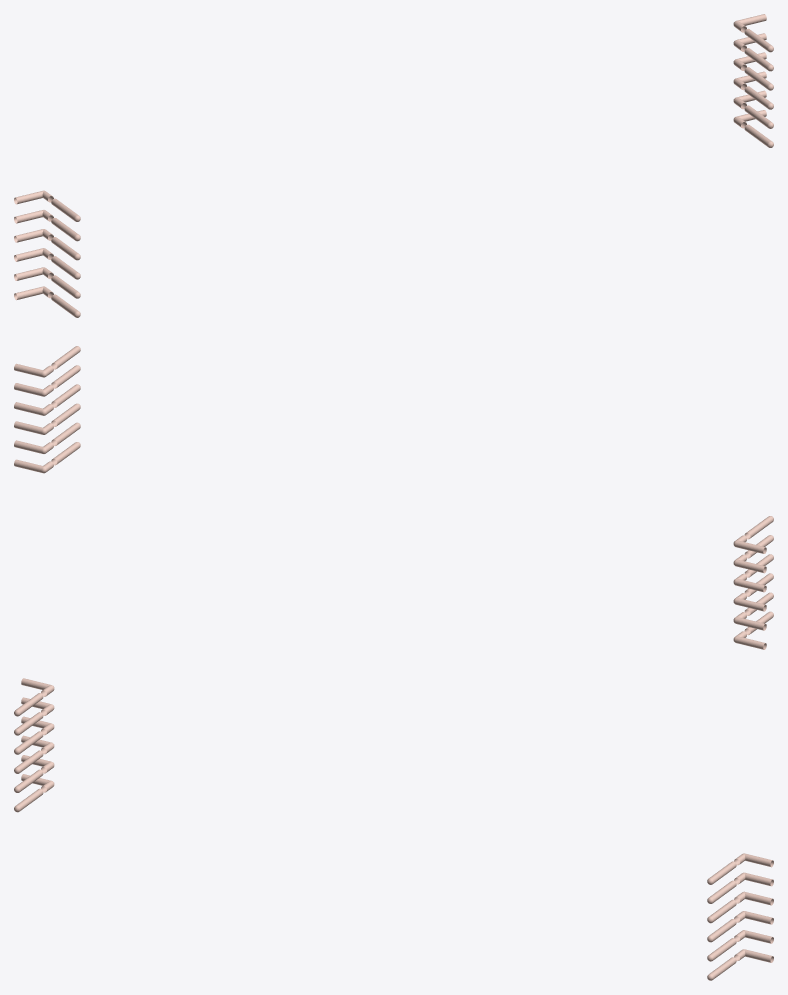
The model's file is Blancer_SBR_Assembly_7_vis_5.dae.
3 renders of one model, top to bottom at view 1: azimuth 30°, elevation 25°; view 2: azimuth 150°, elevation 25°; view 3: azimuth 330°, elevation 25°, orthographic.
Visible parts, largest first — view 1: Node_0000020B6860EBF0; view 2: Node_0000020B6860EBF0; view 3: Node_0000020B6860EBF0.
Part boxes in pixels (box(x1,y1,x2,y2)): Node_0000020B6860EBF0: box(14, 14, 773, 317); Node_0000020B6860EBF0: box(14, 346, 773, 649); Node_0000020B6860EBF0: box(14, 678, 773, 980).
Size of the model in its own units: 0.0614 by 0.00805 by 0.00525.
